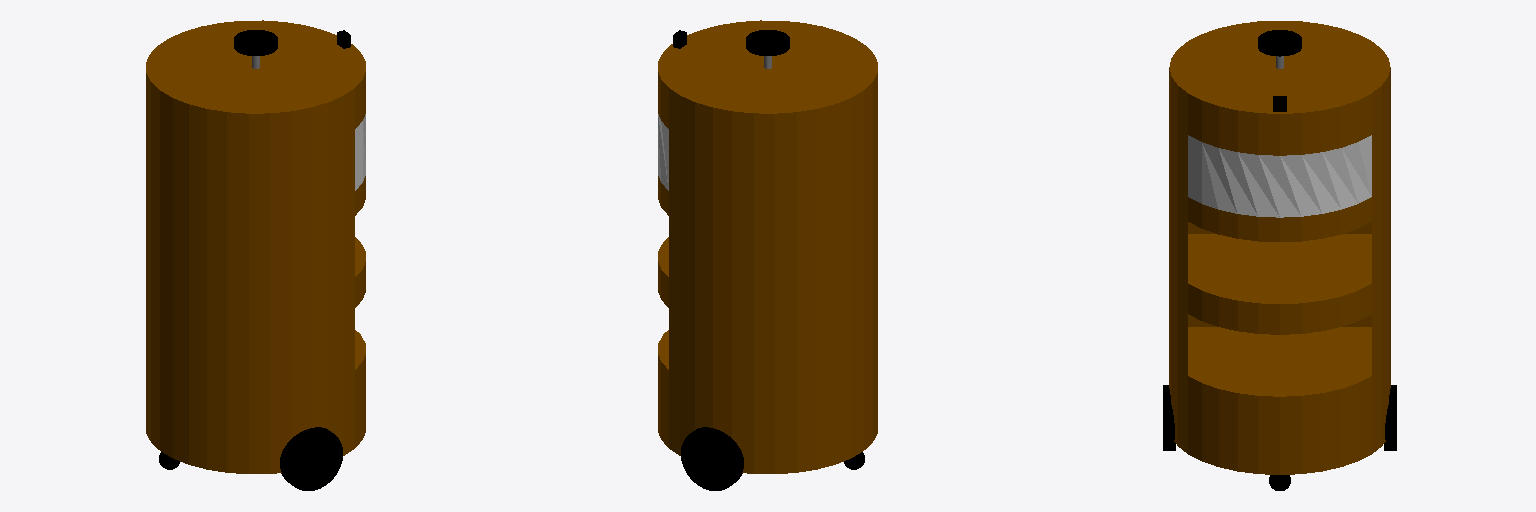
robot.urdf — my_car_camera:
<?xml version="1.0" ?>
<!-- =================================================================================== -->
<!-- |    This document was autogenerated by xacro from test.xacro                     | -->
<!-- |    EDITING THIS FILE BY HAND IS NOT RECOMMENDED                                 | -->
<!-- =================================================================================== -->
<!-- 组合小车底盘与摄像头 -->
<robot name="my_car_camera">
  <!-- 质量  -->
  <!-- 底盘 -->
  <link name="base_footprint">
    <visual>
      <geometry>
        <sphere radius="0.001"/>
      </geometry>
    </visual>
  </link>
  <link name="base_link">
    <visual>
      <geometry>
        <mesh filename="package://zj_base/meshes/modle.stl"/>
      </geometry>
      <origin rpy="0 0 0" xyz="0 0 0"/>
      <material name="yellow">
        <color rgba="0.5 0.3 0.0 0.5"/>
      </material>
    </visual>
    <collision>
      <geometry>
        <cylinder length="0.9" radius="0.25"/>
      </geometry>
      <origin rpy="0 0 0" xyz="0 0 0"/>
    </collision>
    <inertial>
      <mass value="5.0"/>
      <inertia ixx="0.4156250000000001" ixy="0" ixz="0" iyy="0.4156250000000001" iyz="0" izz="0.15625"/>
    </inertial>
  </link>
  <joint name="base_link2base_footprint" type="fixed">
    <parent link="base_footprint"/>
    <child link="base_link"/>
    <origin xyz="0 0 0.5"/>
  </joint>
  <gazebo reference="base_link">
    <material>Gazebo/Yellow</material>
  </gazebo>
  <!-- 质量  -->
  <link name="left_wheel">
    <visual>
      <geometry>
        <cylinder length="0.03" radius="0.075"/>
      </geometry>
      <origin rpy="1.5707963 0.0 0.0" xyz="0.0 0.0 0.0"/>
      <material name="black">
        <color rgba="0.0 0.0 0.0 1.0"/>
      </material>
    </visual>
    <collision>
      <geometry>
        <cylinder length="0.03" radius="0.075"/>
      </geometry>
      <origin rpy="1.5707963 0.0 0.0" xyz="0.0 0.0 0.0"/>
    </collision>
    <inertial>
      <mass value="0.2"/>
      <inertia ixx="0.00029625" ixy="0" ixz="0" iyy="0.00029625" iyz="0" izz="0.0005625"/>
    </inertial>
  </link>
  <joint name="left_wheel2base_link" type="continuous">
    <parent link="base_link"/>
    <child link="left_wheel"/>
    <origin xyz="0 0.25 -0.425"/>
    <axis xyz="0 1 0"/>
  </joint>
  <gazebo reference="left_wheel">
    <material>Gazebo/Black</material>
  </gazebo>
  <link name="right_wheel">
    <visual>
      <geometry>
        <cylinder length="0.03" radius="0.075"/>
      </geometry>
      <origin rpy="1.5707963 0.0 0.0" xyz="0.0 0.0 0.0"/>
      <material name="black">
        <color rgba="0.0 0.0 0.0 1.0"/>
      </material>
    </visual>
    <collision>
      <geometry>
        <cylinder length="0.03" radius="0.075"/>
      </geometry>
      <origin rpy="1.5707963 0.0 0.0" xyz="0.0 0.0 0.0"/>
    </collision>
    <inertial>
      <mass value="0.2"/>
      <inertia ixx="0.00029625" ixy="0" ixz="0" iyy="0.00029625" iyz="0" izz="0.0005625"/>
    </inertial>
  </link>
  <joint name="right_wheel2base_link" type="continuous">
    <parent link="base_link"/>
    <child link="right_wheel"/>
    <origin xyz="0 -0.25 -0.425"/>
    <axis xyz="0 1 0"/>
  </joint>
  <gazebo reference="right_wheel">
    <material>Gazebo/Black</material>
  </gazebo>
  <!-- 质量  -->
  <link name="front_wheel">
    <visual>
      <geometry>
        <sphere radius="0.025"/>
      </geometry>
      <origin rpy="0 0 0" xyz="0 0 0"/>
      <material name="black">
        <color rgba="0.0 0.0 0.0 1.0"/>
      </material>
    </visual>
    <collision>
      <geometry>
        <sphere radius="0.025"/>
      </geometry>
      <origin rpy="0 0 0" xyz="0 0 0"/>
    </collision>
    <inertial>
      <mass value="0.1"/>
      <inertia ixx="2.5000000000000005e-05" ixy="0" ixz="0" iyy="2.5000000000000005e-05" iyz="0" izz="2.5000000000000005e-05"/>
    </inertial>
  </link>
  <joint name="front_wheel2base_link" type="continuous">
    <parent link="base_link"/>
    <child link="front_wheel"/>
    <origin xyz="0.225 0 -0.47500000000000003"/>
    <axis xyz="1 0 0"/>
  </joint>
  <gazebo reference="front_wheel">
    <material>Gazebo/Black</material>
    <mu1>0.0</mu1>
    <!-- 滚动摩擦 -->
    <mu2>0.0</mu2>
    <!-- 滑动摩擦 -->
    <kp>1000000.0</kp>
    <kd>100.0</kd>
  </gazebo>
  <link name="back_wheel">
    <visual>
      <geometry>
        <sphere radius="0.025"/>
      </geometry>
      <origin rpy="0 0 0" xyz="0 0 0"/>
      <material name="black">
        <color rgba="0.0 0.0 0.0 1.0"/>
      </material>
    </visual>
    <collision>
      <geometry>
        <sphere radius="0.025"/>
      </geometry>
      <origin rpy="0 0 0" xyz="0 0 0"/>
    </collision>
    <inertial>
      <mass value="0.1"/>
      <inertia ixx="2.5000000000000005e-05" ixy="0" ixz="0" iyy="2.5000000000000005e-05" iyz="0" izz="2.5000000000000005e-05"/>
    </inertial>
  </link>
  <joint name="back_wheel2base_link" type="continuous">
    <parent link="base_link"/>
    <child link="back_wheel"/>
    <origin xyz="-0.225 0 -0.47500000000000003"/>
    <axis xyz="1 0 0"/>
  </joint>
  <gazebo reference="back_wheel">
    <material>Gazebo/Black</material>
    <mu1>0.0</mu1>
    <!-- 滚动摩擦 -->
    <mu2>0.0</mu2>
    <!-- 滑动摩擦 -->
    <kp>1000000.0</kp>
    <kd>100.0</kd>
  </gazebo>
  <!-- Transmission is important to link the joints and the controller -->
  <transmission name="left_wheel2base_link_trans">
    <type>transmission_interface/SimpleTransmission</type>
    <joint name="left_wheel2base_link">
      <hardwareInterface>hardware_interface/VelocityJointInterface</hardwareInterface>
    </joint>
    <actuator name="left_wheel2base_link_motor">
      <hardwareInterface>hardware_interface/VelocityJointInterface</hardwareInterface>
      <mechanicalReduction>1</mechanicalReduction>
    </actuator>
  </transmission>
  <!-- Transmission is important to link the joints and the controller -->
  <transmission name="right_wheel2base_link_trans">
    <type>transmission_interface/SimpleTransmission</type>
    <joint name="right_wheel2base_link">
      <hardwareInterface>hardware_interface/VelocityJointInterface</hardwareInterface>
    </joint>
    <actuator name="right_wheel2base_link_motor">
      <hardwareInterface>hardware_interface/VelocityJointInterface</hardwareInterface>
      <mechanicalReduction>1</mechanicalReduction>
    </actuator>
  </transmission>
  <!-- 控制器 -->
  <gazebo>
    <plugin filename="libgazebo_ros_diff_drive.so" name="differential_drive_controller">
      <rosDebugLevel>Debug</rosDebugLevel>
      <publishWheelTF>true</publishWheelTF>
      <robotNamespace>/</robotNamespace>
      <publishTf>1</publishTf>
      <publishWheelJointState>true</publishWheelJointState>
      <alwaysOn>true</alwaysOn>
      <updateRate>100.0</updateRate>
      <legacyMode>true</legacyMode>
      <leftJoint>left_wheel2base_link</leftJoint>
      <!-- 左轮 -->
      <rightJoint>right_wheel2base_link</rightJoint>
      <!-- 右轮 -->
      <wheelSeparation>0.5</wheelSeparation>
      <!-- 车轮间距 -->
      <wheelDiameter>0.15</wheelDiameter>
      <!-- 车轮直径 -->
      <broadcastTF>1</broadcastTF>
      <wheelTorque>30</wheelTorque>
      <wheelAcceleration>1.8</wheelAcceleration>
      <commandTopic>cmd_vel</commandTopic>
      <!-- 运动控制话题 -->
      <odometryFrame>odom</odometryFrame>
      <odometryTopic>odom</odometryTopic>
      <!-- 里程计话题 -->
      <robotBaseFrame>base_footprint</robotBaseFrame>
      <!-- 根坐标系 -->
    </plugin>
  </gazebo>
  <!-- 支架安装的z坐标:底盘高度 / 2 + 支架高度 / 2  -->
  <link name="suport">
    <visual>
      <geometry>
        <cylinder length="0.05" radius="0.01"/>
      </geometry>
      <origin rpy="0 0 0" xyz="0.0 0.0 0.0"/>
      <material name="grey">
        <color rgba="0.5 0.5 0.5 1.0"/>
      </material>
    </visual>
    <collision>
      <geometry>
        <cylinder length="0.05" radius="0.01"/>
      </geometry>
      <origin rpy="0 0 0" xyz="0.0 0.0 0.0"/>
    </collision>
    <inertial>
      <origin xyz="0 0 0"/>
      <mass value="0.1"/>
      <inertia ixx="0.0001" ixy="0" ixz="0" iyy="0.0001" iyz="0" izz="0.0001"/>
    </inertial>
  </link>
  <joint name="support2base_link" type="fixed">
    <parent link="base_link"/>
    <child link="suport"/>
    <origin rpy="0 0 0" xyz="0 0 0.47500000000000003"/>
  </joint>
  <link name="laser">
    <visual>
      <geometry>
        <cylinder length="0.02" radius="0.05"/>
      </geometry>
      <origin rpy="0 0 0" xyz="0 0 0"/>
      <material name="black">
        <color rgba="0.0 0.0 0.0 1.0"/>
      </material>
    </visual>
    <collision>
      <geometry>
        <cylinder length="0.02" radius="0.05"/>
      </geometry>
      <origin rpy="0 0 0" xyz="0 0 0"/>
    </collision>
    <inertial>
      <origin xyz="0 0 0"/>
      <mass value="0.2"/>
      <inertia ixx="0.0001" ixy="0" ixz="0" iyy="0.0001" iyz="0" izz="0.0001"/>
    </inertial>
  </link>
  <joint name="laser2support" type="fixed">
    <parent link="suport"/>
    <child link="laser"/>
    <origin rpy="0 0 0" xyz="0 0 0.035"/>
  </joint>
  <!-- 雷达 -->
  <gazebo reference="laser">
    <sensor name="rplidar" type="ray">
      <pose>0 0 0 0 0 0</pose>
      <visualize>false</visualize>
      <update_rate>5.5</update_rate>
      <ray>
        <scan>
          <horizontal>
            <samples>360</samples>
            <resolution>1</resolution>
            <min_angle>-3.14159</min_angle>
            <max_angle>3.14159</max_angle>
          </horizontal>
        </scan>
        <range>
          <min>0.10</min>
          <max>30.0</max>
          <resolution>0.01</resolution>
        </range>
        <noise>
          <type>gaussian</type>
          <mean>0.0</mean>
          <stddev>0.01</stddev>
        </noise>
      </ray>
      <plugin filename="libgazebo_ros_laser.so" name="gazebo_rplidar">
        <topicName>/scan</topicName>
        <frameName>laser</frameName>
      </plugin>
    </sensor>
  </gazebo>
  <link name="camera">
    <visual>
      <geometry>
        <box size="0.03 0.02 0.03"/>
      </geometry>
      <origin rpy="0 0 1.5705" xyz="0 0 0"/>
      <material name="black">
        <color rgba="0.0 0.0 0.0 1.0"/>
      </material>
    </visual>
    <collision>
      <geometry>
        <box size="0.03 0.02 0.03"/>
      </geometry>
      <origin rpy="0 0 1.5705" xyz="0 0 0"/>
    </collision>
    <inertial>
      <origin xyz="0 0 0"/>
      <mass value="0.1"/>
      <inertia ixx="0.0001" ixy="0" ixz="0" iyy="0.0001" iyz="0" izz="0.0001"/>
    </inertial>
  </link>
  <joint name="camera2base_link" type="fixed">
    <parent link="base_link"/>
    <child link="camera"/>
    <origin rpy="0 0 0" xyz="0.23 0.0 0.465"/>
  </joint>
  <gazebo reference="camera">
    <material>Gazebo/Black</material>
  </gazebo>
  <!-- 抽屉组件1 -->
  <link name="drawer">
    <visual>
      <geometry>
        <mesh filename="package://zj_base/meshes/box.stl"/>
      </geometry>
      <origin rpy="0 0 0" xyz="0 0 0"/>
      <material name="drawer_material">
        <color rgba="0.8 0.8 0.8 1.0"/>
      </material>
    </visual>
    <collision>
      <geometry>
        <box size="0.1 0.15 0.05"/>
      </geometry>
      <origin rpy="0 0 0" xyz="0 0 0"/>
    </collision>
    <inertial>
      <origin xyz="0 0 0"/>
      <mass value="0.2"/>
      <inertia ixx="0.0001" ixy="0" ixz="0" iyy="0.0001" iyz="0" izz="0.0001"/>
    </inertial>
  </link>
  <joint name="drawer2base_link" type="prismatic">
    <parent link="base_link"/>
    <child link="drawer"/>
    <origin rpy="0 0 0" xyz="0 0 0"/>
    <axis xyz="1 0 0"/>
    <limit effort="100" lower="-0.2" upper="0.2" velocity="2.0"/>
  </joint>
  <gazebo reference="drawer">
    <material>Gazebo/Grey</material>
  </gazebo>
  <!-- 抽屉控制器1 -->
  <transmission name="drawer2base_link_trans">
    <type>transmission_interface/SimpleTransmission</type>
    <joint name="drawer2base_link">
      <hardwareInterface>hardware_interface/PositionJointInterface</hardwareInterface>
    </joint>
    <actuator name="drawer2base_link_motor">
      <hardwareInterface>hardware_interface/PositionJointInterface</hardwareInterface>
      <mechanicalReduction>1</mechanicalReduction>
    </actuator>
  </transmission>
  <!-- 被引用的link -->
  <gazebo reference="camera">
    <!-- 类型设置为 camara -->
    <sensor name="camera_node" type="camera">
      <update_rate>30.0</update_rate>
      <!-- 更新频率 -->
      <!-- 摄像头基本信息设置 -->
      <camera name="head">
        <horizontal_fov>1.3962634</horizontal_fov>
        <image>
          <width>1280</width>
          <height>720</height>
          <format>R8G8B8</format>
        </image>
        <clip>
          <near>0.02</near>
          <far>300</far>
        </clip>
        <noise>
          <type>gaussian</type>
          <mean>0.0</mean>
          <stddev>0.007</stddev>
        </noise>
      </camera>
      <!-- 核心插件 -->
      <plugin filename="libgazebo_ros_camera.so" name="gazebo_camera">
        <alwaysOn>true</alwaysOn>
        <updateRate>0.0</updateRate>
        <cameraName>/camera</cameraName>
        <imageTopicName>image_raw</imageTopicName>
        <cameraInfoTopicName>camera_info</cameraInfoTopicName>
        <frameName>camera</frameName>
        <hackBaseline>0.07</hackBaseline>
        <distortionK1>0.0</distortionK1>
        <distortionK2>0.0</distortionK2>
        <distortionK3>0.0</distortionK3>
        <distortionT1>0.0</distortionT1>
        <distortionT2>0.0</distortionT2>
      </plugin>
    </sensor>
  </gazebo>
  <gazebo reference="kinect link名称">
    <sensor name="camera" type="depth">
      <always_on>true</always_on>
      <update_rate>20.0</update_rate>
      <camera>
        <horizontal_fov>1.0470000000000002</horizontal_fov>
        <image>
          <format>R8G8B8</format>
          <width>640</width>
          <height>480</height>
        </image>
        <clip>
          <near>0.05</near>
          <far>8.0</far>
        </clip>
      </camera>
      <plugin filename="libgazebo_ros_openni_kinect.so" name="kinect_camera_controller">
        <cameraName>camera</cameraName>
        <alwaysOn>true</alwaysOn>
        <updateRate>10</updateRate>
        <imageTopicName>rgb/image_raw</imageTopicName>
        <depthImageTopicName>depth/image_raw</depthImageTopicName>
        <pointCloudTopicName>depth/points</pointCloudTopicName>
        <cameraInfoTopicName>rgb/camera_info</cameraInfoTopicName>
        <depthImageCameraInfoTopicName>depth/camera_info</depthImageCameraInfoTopicName>
        <frameName>kinect link名称</frameName>
        <baseline>0.1</baseline>
        <distortion_k1>0.0</distortion_k1>
        <distortion_k2>0.0</distortion_k2>
        <distortion_k3>0.0</distortion_k3>
        <distortion_t1>0.0</distortion_t1>
        <distortion_t2>0.0</distortion_t2>
        <pointCloudCutoff>0.4</pointCloudCutoff>
      </plugin>
    </sensor>
  </gazebo>
</robot>

--- What the picture shows (computed from the rendered views, not written in the file) ---
The picture shows the robot from 3 angles, left to right: view 1: azimuth 30°, elevation 25°; view 2: azimuth 150°, elevation 25°; view 3: azimuth 270°, elevation 25°; orthographic projection.
Model my_car_camera with 10 links and 9 joints (4 continuous, 1 prismatic, 4 fixed), rooted at base_footprint, posed every joint at zero.
Visible links, largest first — view 1: base_link, right_wheel, laser, drawer; view 2: base_link, left_wheel, laser, drawer; view 3: base_link, drawer, laser, left_wheel, right_wheel.
Boxes of the visible links, bbox=[...] form: base_link: bbox=[146, 20, 365, 473]; right_wheel: bbox=[280, 427, 342, 490]; laser: bbox=[234, 30, 277, 55]; drawer: bbox=[355, 114, 365, 190]; base_link: bbox=[658, 20, 877, 473]; left_wheel: bbox=[681, 427, 743, 490]; laser: bbox=[746, 30, 789, 55]; drawer: bbox=[658, 114, 668, 190]; base_link: bbox=[1169, 21, 1390, 474]; drawer: bbox=[1188, 135, 1371, 217]; laser: bbox=[1258, 30, 1301, 56]; left_wheel: bbox=[1384, 385, 1396, 450]; right_wheel: bbox=[1163, 385, 1175, 450].
Bounding box of the posed robot: 0.5 × 0.53 × 1.02 m (x, y, z).
Meshes: 2 distinct files referenced, 2 mesh visuals loaded (2 binary STL).
